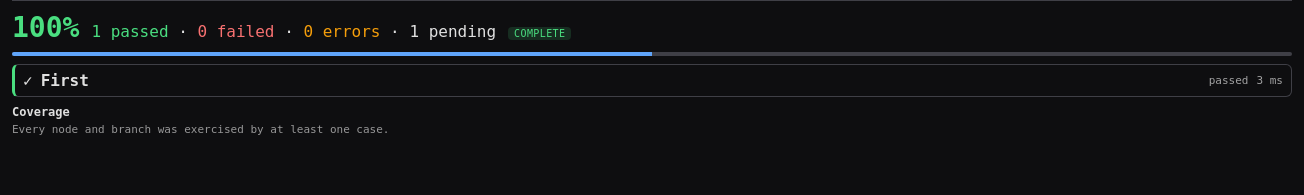
Test: SuiteReport › passing cases are collapsed until clicked
Check: the text "fine" is not shown
What coordinates should you click on to do the following:
click the text "First"
I would click on:
 (65, 80)
Its box is [41,71,89,90].
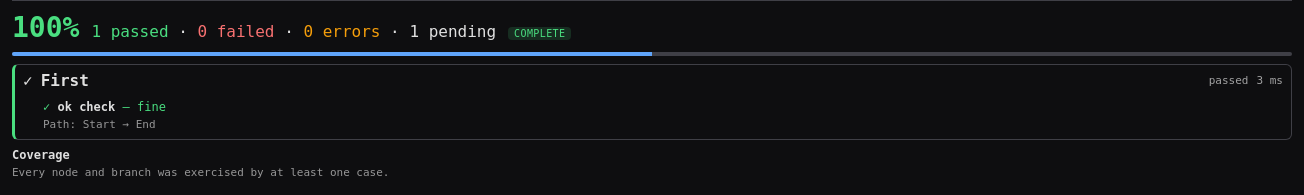
Check: the list item "✓ ok check — fine" is shown, box [43,100,166,114]
